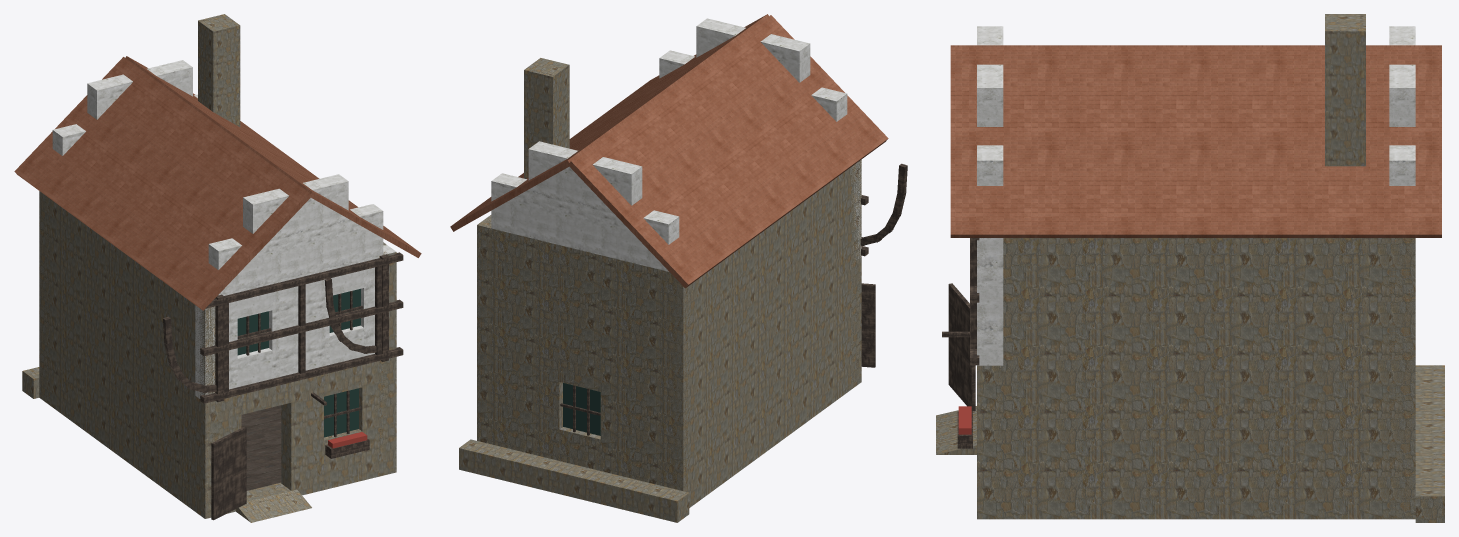
Rendered from prop_hk_house_a.glb.
The picture shows the model from 3 angles, left to right: view 1: azimuth 30°, elevation 25°; view 2: azimuth 150°, elevation 25°; view 3: azimuth 270°, elevation 25°; orthographic projection. The views are drawn at different scales.
Parts seen in each view (by area): view 1: building_hk_rowhouse_a; view 2: building_hk_rowhouse_a; view 3: building_hk_rowhouse_a.
Boxes of the visible parts, <box> form: building_hk_rowhouse_a: <box>14,14,421,522</box>; building_hk_rowhouse_a: <box>450,14,907,522</box>; building_hk_rowhouse_a: <box>936,14,1444,522</box>.
Size of the model in its own units: 6.47 by 8.9 by 8.7.
Materials: 7 (7 with a texture image).
